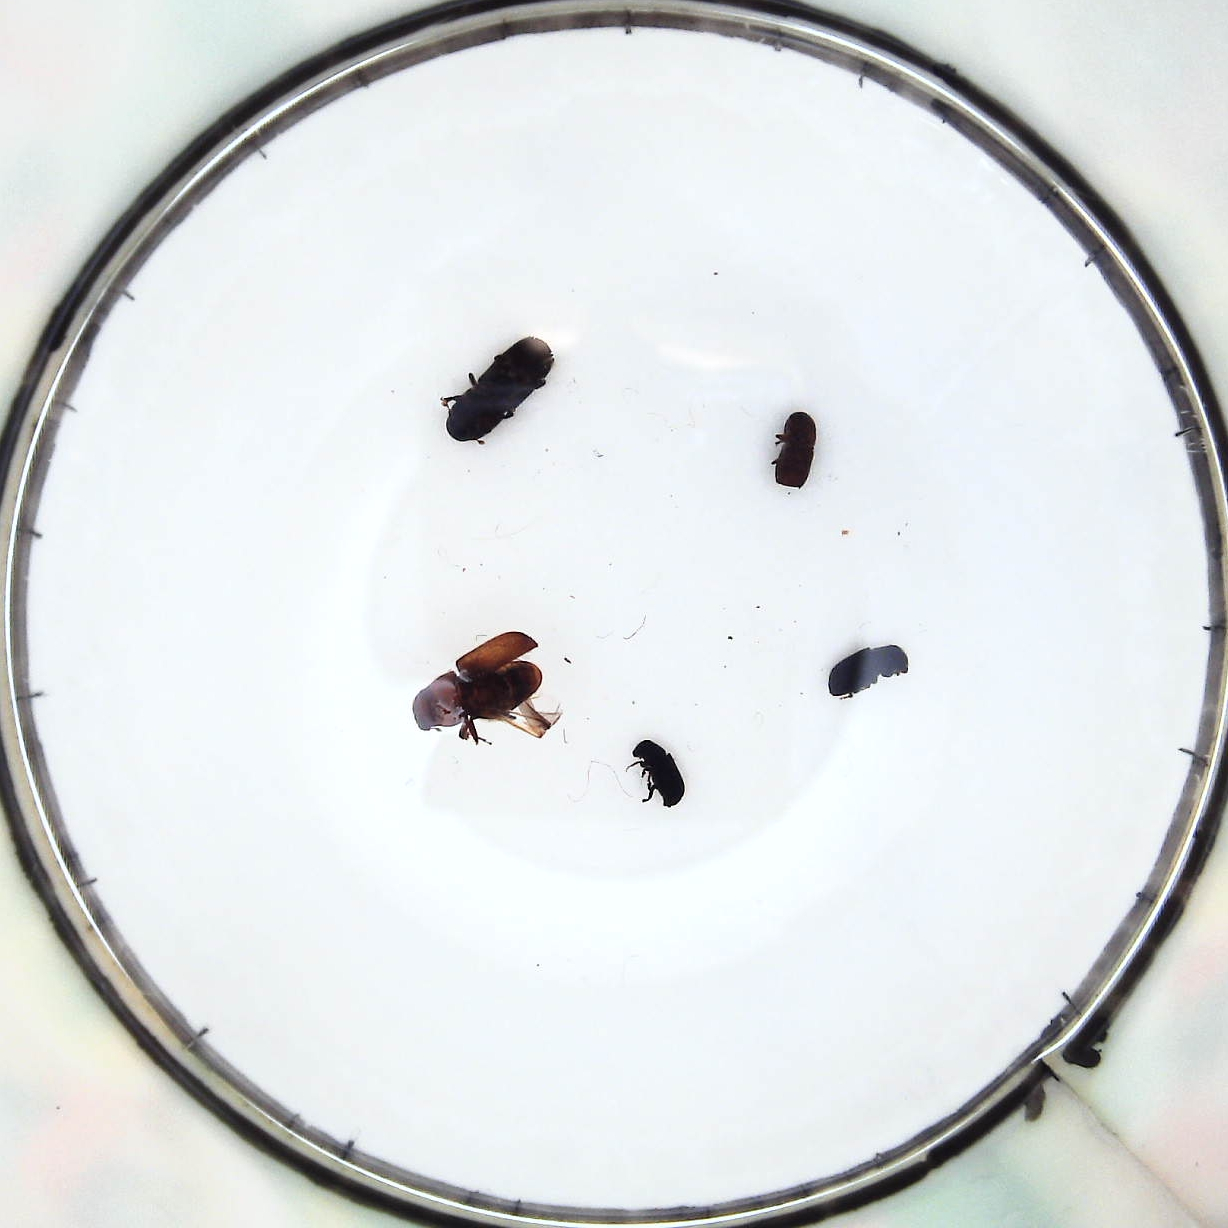Boerner: (446, 335, 556, 448)
Leconte: (415, 631, 559, 748)
Linnaeus: (776, 410, 815, 484)
armandi: (824, 640, 910, 704)
coleoptera: (627, 738, 688, 806)
